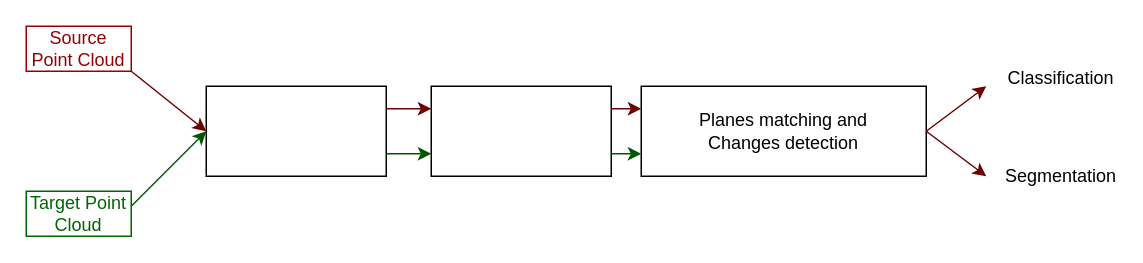
This 1143x263 diagram has some shape labels left out. Each missing label, with the box of its shape:
Plane Detection: (430, 85, 611, 176)
Point Cloud Registration: (205, 85, 386, 176)
